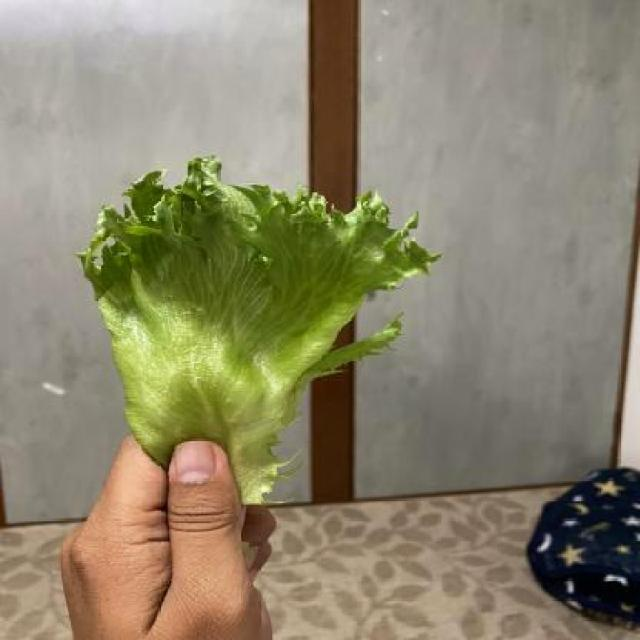Lettuce: (82, 147, 426, 492)
